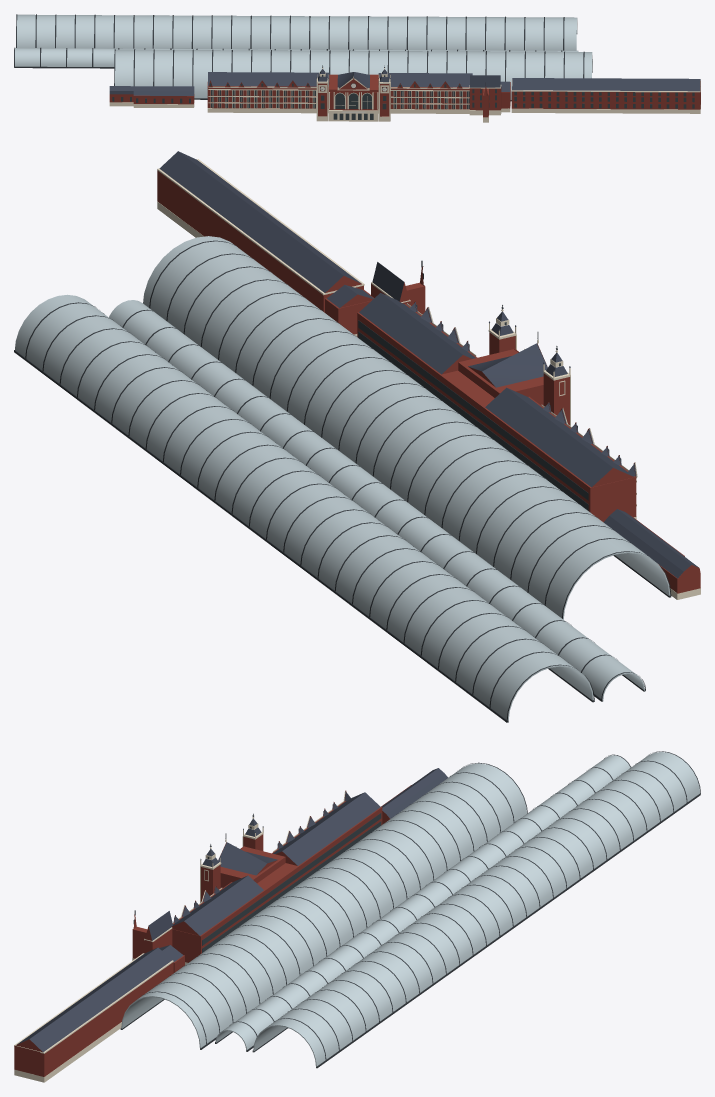
File: amsterdam-centraal-near.glb
3 renders of one model, top to bottom at view 1: azimuth 30°, elevation 25°; view 2: azimuth 150°, elevation 25°; view 3: azimuth 270°, elevation 25°, orthographic. The views are drawn at different scales.
Visible parts, largest first — view 1: amsterdam-centraal-0-glass, amsterdam-centraal-0-brick, amsterdam-centraal-0-stone, amsterdam-centraal-0-slate, amsterdam-centraal-0-glow, amsterdam-centraal-0-iron; view 2: amsterdam-centraal-0-glass, amsterdam-centraal-0-slate, amsterdam-centraal-0-brick, amsterdam-centraal-0-iron, amsterdam-centraal-0-glow, amsterdam-centraal-0-stone; view 3: amsterdam-centraal-0-glass, amsterdam-centraal-0-slate, amsterdam-centraal-0-brick, amsterdam-centraal-0-iron, amsterdam-centraal-0-glow, amsterdam-centraal-0-stone.
Boxes of the visible parts, bbox=[...] form: amsterdam-centraal-0-glass: bbox=[15, 14, 592, 99]; amsterdam-centraal-0-brick: bbox=[109, 74, 700, 117]; amsterdam-centraal-0-stone: bbox=[109, 68, 700, 122]; amsterdam-centraal-0-slate: bbox=[109, 69, 700, 95]; amsterdam-centraal-0-glow: bbox=[112, 73, 694, 119]; amsterdam-centraal-0-iron: bbox=[14, 14, 592, 101]; amsterdam-centraal-0-glass: bbox=[15, 236, 670, 720]; amsterdam-centraal-0-slate: bbox=[159, 151, 698, 578]; amsterdam-centraal-0-brick: bbox=[157, 170, 700, 593]; amsterdam-centraal-0-iron: bbox=[14, 240, 671, 722]; amsterdam-centraal-0-glow: bbox=[358, 273, 621, 510]; amsterdam-centraal-0-stone: bbox=[157, 159, 700, 599]; amsterdam-centraal-0-glass: bbox=[121, 752, 699, 1067]; amsterdam-centraal-0-slate: bbox=[16, 768, 447, 1052]; amsterdam-centraal-0-brick: bbox=[14, 785, 411, 1076]; amsterdam-centraal-0-iron: bbox=[120, 751, 700, 1068]; amsterdam-centraal-0-glow: bbox=[133, 804, 381, 952]; amsterdam-centraal-0-stone: bbox=[14, 790, 345, 1082].
Bounding box in the file's own units: 340 × 36.65 × 314.
